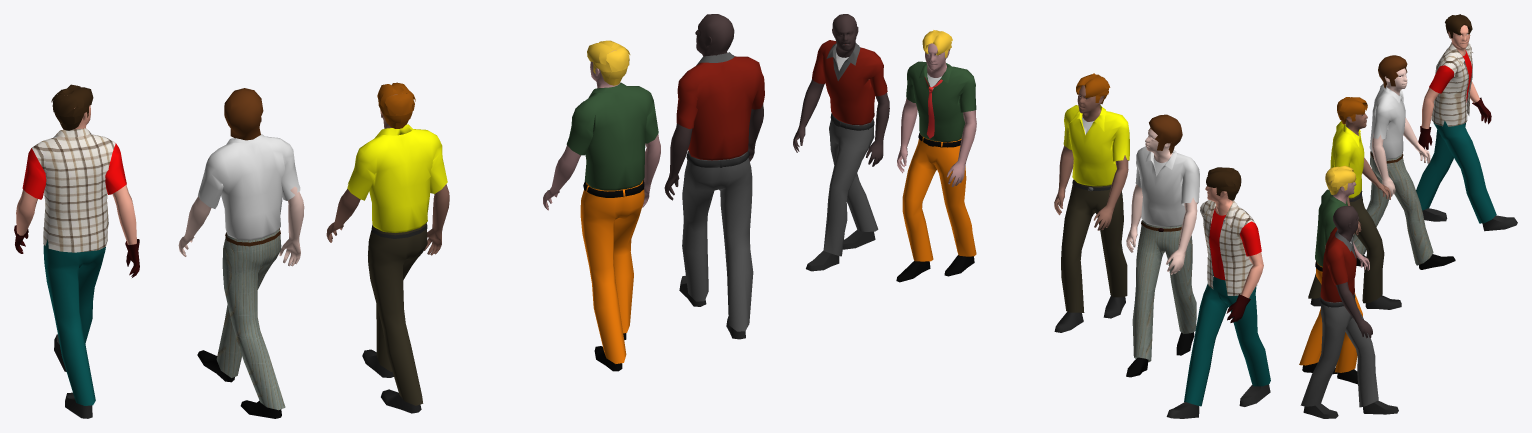
The model's file is grupo.obj.
3 views of the same model, side by side, from view 1: azimuth 30°, elevation 25°; view 2: azimuth 150°, elevation 25°; view 3: azimuth 270°, elevation 25° (orthographic). The views are drawn at different scales.
Visible parts, largest first — view 1: Mesh45 Spt____People_05_1 G_4_1 Model, Mesh86 Spt____People_04_1 G_4_1 Model, Mesh103 Spt____People_01_1 G_4_1 Model, Mesh142 Spt____People_03_1 G_4_1 Model, Mesh7 Spt____People_02_1 G_4_1 Model, Mesh4 Spt____People_02_1 G_4_1 Model, Mesh110 Spt____People_01_1 G_4_1 Model, Mesh48 Spt____People_05_1 G_4_1 Model, Mesh106 Spt____People_01_1 G_4_1 Model, Mesh47 Spt____People_05_1 G_4_1 Model, Mesh140 Spt____People_03_1 G_4_1 Model, Mesh44 Spt____People_02_1 G_4_1 Model (+4 smaller); view 2: Mesh142 Spt____People_03_1 G_4_1 Model, Mesh86 Spt____People_04_1 G_4_1 Model, Mesh103 Spt____People_01_1 G_4_1 Model, Mesh45 Spt____People_05_1 G_4_1 Model, Mesh4 Spt____People_02_1 G_4_1 Model, Mesh7 Spt____People_02_1 G_4_1 Model, Mesh1 Spt____People_02_1 G_4_1 Model, Mesh65 Spt____People_04_1 G_4_1 Model, Mesh138 Spt____People_03_1 G_4_1 Model, Mesh107 Spt____People_01_1 G_4_1 Model, Mesh48 Spt____People_05_1 G_4_1 Model, Mesh47 Spt____People_05_1 G_4_1 Model (+14 smaller); view 3: Mesh45 Spt____People_05_1 G_4_1 Model, Mesh103 Spt____People_01_1 G_4_1 Model, Mesh4 Spt____People_02_1 G_4_1 Model, Mesh142 Spt____People_03_1 G_4_1 Model, Mesh7 Spt____People_02_1 G_4_1 Model, Mesh86 Spt____People_04_1 G_4_1 Model, Mesh48 Spt____People_05_1 G_4_1 Model, Mesh49 Spt____People_05_1 G_4_1 Model, Mesh106 Spt____People_01_1 G_4_1 Model, Mesh110 Spt____People_01_1 G_4_1 Model, Mesh1 Spt____People_02_1 G_4_1 Model, Mesh44 Spt____People_02_1 G_4_1 Model (+17 smaller).
Boxes of the visible parts, box(x1,y1,x2,y2) form: Mesh45 Spt____People_05_1 G_4_1 Model: box(676, 52, 764, 331); Mesh86 Spt____People_04_1 G_4_1 Model: box(566, 82, 658, 363); Mesh103 Spt____People_01_1 G_4_1 Model: box(198, 134, 300, 410); Mesh142 Spt____People_03_1 G_4_1 Model: box(347, 124, 447, 405); Mesh7 Spt____People_02_1 G_4_1 Model: box(22, 128, 126, 252); Mesh4 Spt____People_02_1 G_4_1 Model: box(43, 239, 105, 405); Mesh110 Spt____People_01_1 G_4_1 Model: box(224, 88, 263, 140); Mesh48 Spt____People_05_1 G_4_1 Model: box(695, 14, 734, 56); Mesh106 Spt____People_01_1 G_4_1 Model: box(279, 186, 304, 266); Mesh47 Spt____People_05_1 G_4_1 Model: box(664, 123, 692, 200); Mesh140 Spt____People_03_1 G_4_1 Model: box(424, 184, 449, 255); Mesh44 Spt____People_02_1 G_4_1 Model: box(112, 185, 136, 244); Mesh142 Spt____People_03_1 G_4_1 Model: box(1061, 105, 1129, 312); Mesh86 Spt____People_04_1 G_4_1 Model: box(902, 61, 976, 261); Mesh103 Spt____People_01_1 G_4_1 Model: box(1132, 146, 1199, 361); Mesh45 Spt____People_05_1 G_4_1 Model: box(812, 40, 887, 256); Mesh4 Spt____People_02_1 G_4_1 Model: box(1184, 268, 1270, 406); Mesh7 Spt____People_02_1 G_4_1 Model: box(1200, 200, 1261, 295); Mesh1 Spt____People_02_1 G_4_1 Model: box(1205, 186, 1232, 280); Mesh65 Spt____People_04_1 G_4_1 Model: box(946, 110, 976, 186); Mesh138 Spt____People_03_1 G_4_1 Model: box(1094, 155, 1128, 230); Mesh107 Spt____People_01_1 G_4_1 Model: box(1166, 197, 1197, 274); Mesh48 Spt____People_05_1 G_4_1 Model: box(832, 14, 858, 57); Mesh47 Spt____People_05_1 G_4_1 Model: box(866, 93, 889, 166); Mesh45 Spt____People_05_1 G_4_1 Model: box(1300, 227, 1378, 407); Mesh103 Spt____People_01_1 G_4_1 Model: box(1352, 83, 1433, 265); Mesh4 Spt____People_02_1 G_4_1 Model: box(1416, 120, 1496, 223); Mesh142 Spt____People_03_1 G_4_1 Model: box(1308, 121, 1384, 303); Mesh7 Spt____People_02_1 G_4_1 Model: box(1429, 42, 1472, 126); Mesh86 Spt____People_04_1 G_4_1 Model: box(1299, 189, 1362, 372); Mesh48 Spt____People_05_1 G_4_1 Model: box(1333, 206, 1359, 241); Mesh49 Spt____People_05_1 G_4_1 Model: box(1336, 282, 1372, 338); Mesh106 Spt____People_01_1 G_4_1 Model: box(1372, 134, 1395, 196); Mesh110 Spt____People_01_1 G_4_1 Model: box(1378, 55, 1407, 88); Mesh1 Spt____People_02_1 G_4_1 Model: box(1448, 25, 1472, 102); Mesh44 Spt____People_02_1 G_4_1 Model: box(1421, 87, 1438, 128).
Bounding box in the file's own units: 167 × 74.06 × 69.69.
34 materials, 2 textured.
